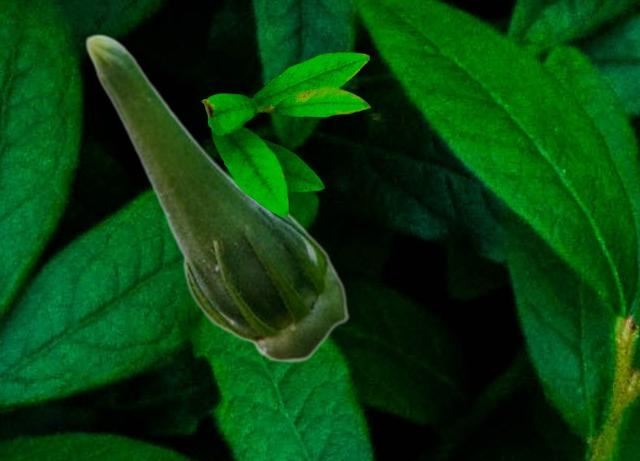okra: (84, 33, 348, 362)
